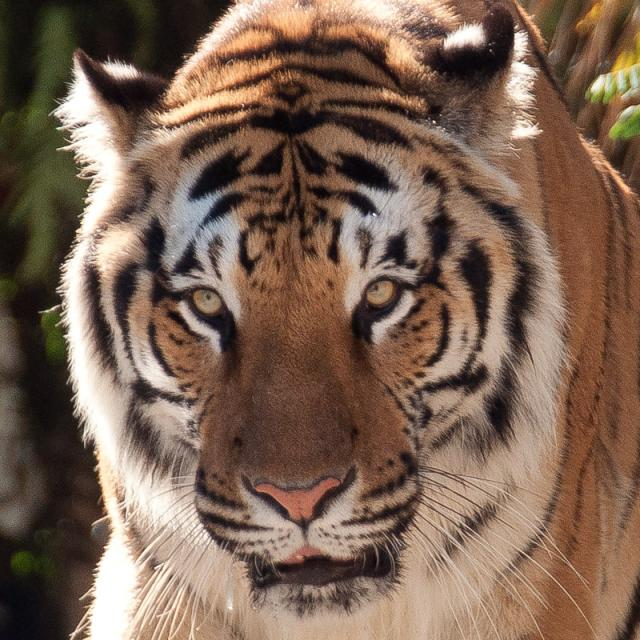Tiger: (52, 0, 639, 631)
